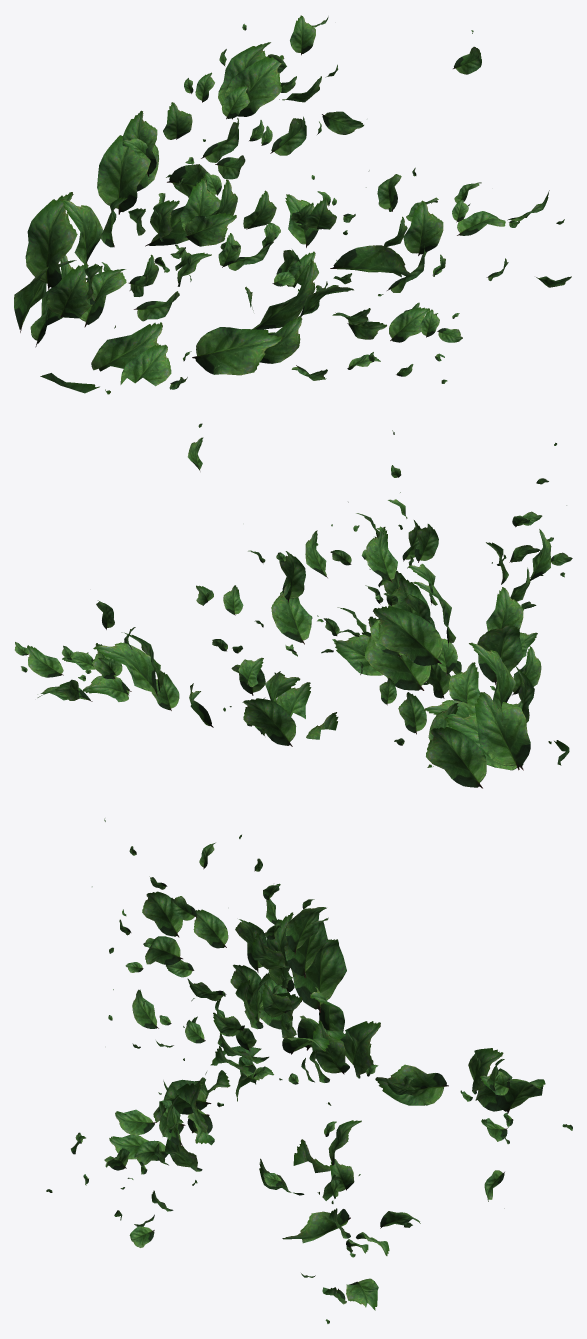
File: leaves.fbx
3 views of the same model, one above another, from view 1: azimuth 30°, elevation 25°; view 2: azimuth 150°, elevation 25°; view 3: azimuth 270°, elevation 25° (orthographic). The views are drawn at different scales.
Visible parts, largest first — view 1: Object_5.001; view 2: Object_5.001; view 3: Object_5.001.
Boxes of the visible parts, left/top/right/bottom form: Object_5.001: left=14, top=15, right=571, bottom=394; Object_5.001: left=14, top=423, right=572, bottom=788; Object_5.001: left=46, top=818, right=572, bottom=1323.
Bounding box in the file's own units: 48.07 × 26.67 × 42.11.
Materials: 1 (1 with a texture image).
